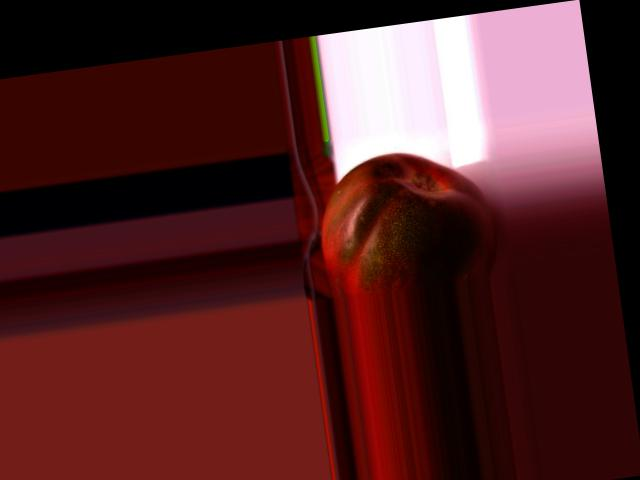tomato: (310, 141, 501, 299)
